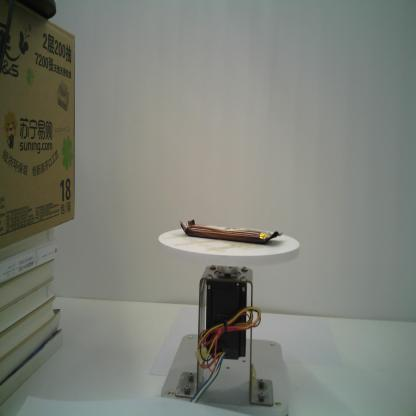Chocolate: (179, 216, 284, 246)
